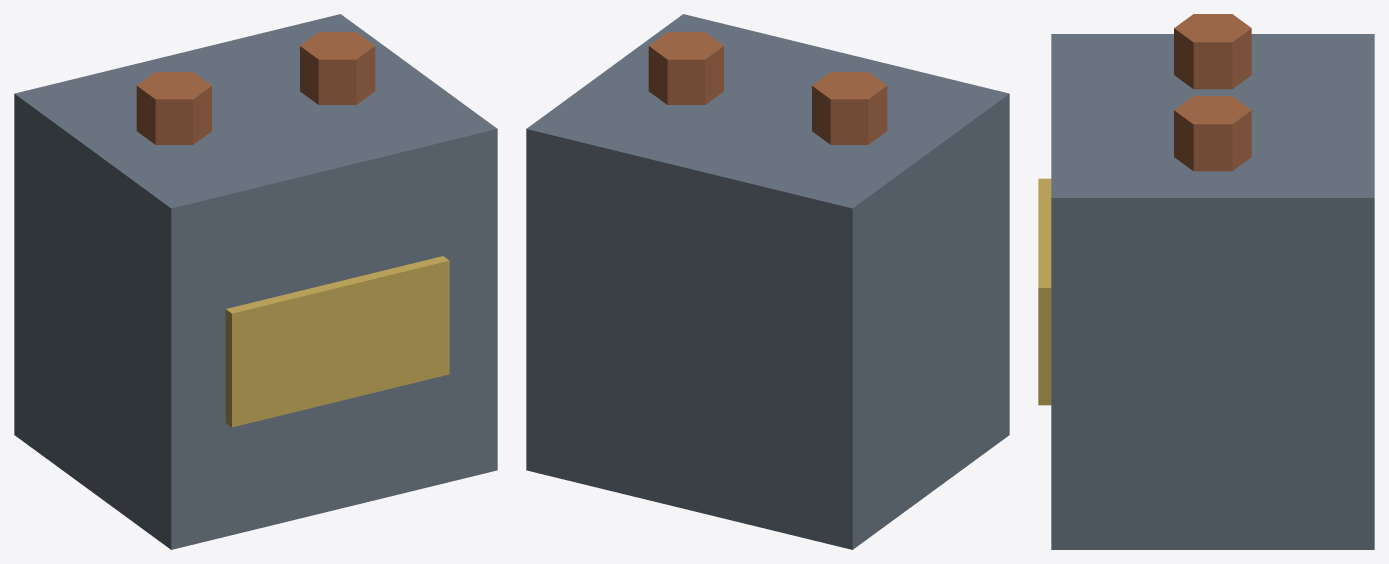
File: Pow_Battery.fbx
The picture shows the model from 3 angles, left to right: view 1: azimuth 30°, elevation 25°; view 2: azimuth 150°, elevation 25°; view 3: azimuth 270°, elevation 25°; orthographic projection. The views are drawn at different scales.
Visible parts, largest first — view 1: Pow_Battery; view 2: Pow_Battery; view 3: Pow_Battery.
Boxes of the visible parts, x1=… form: Pow_Battery: x1=14, y1=14, x2=497, y2=549; Pow_Battery: x1=526, y1=14, x2=1009, y2=549; Pow_Battery: x1=1038, y1=14, x2=1374, y2=549.
Size of the model in its own units: 0.6 by 0.68 by 0.52.
Materials: 1 (1 with a texture image).
